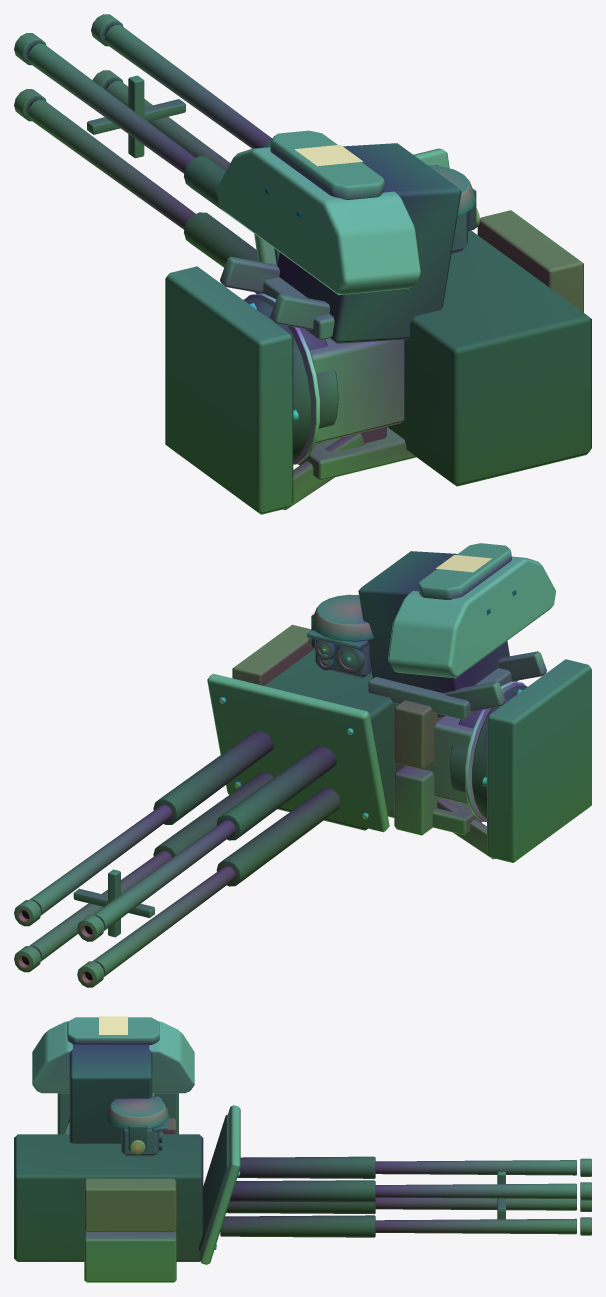
The model's file is arm_m45.glb.
The picture shows the model from 3 angles, top to bottom: view 1: azimuth 30°, elevation 25°; view 2: azimuth 150°, elevation 25°; view 3: azimuth 270°, elevation 25°; orthographic projection. The views are drawn at different scales.
Visible parts, largest first — view 1: Body__dark, Body__gunmetal, Body__armor, Body__armor_sub, Body__armor_oxide, Body__chrome, Body__decal; view 2: Body__gunmetal, Body__armor, Body__dark, Body__armor_sub, Body__armor_oxide, Body__chrome, Body__decal; view 3: Body__dark, Body__gunmetal, Body__armor, Body__armor_sub, Body__armor_oxide, Body__armor_dark, Body__decal.
Part boxes in pixels (bbox=[...]): Body__dark: bbox=[184, 140, 591, 486]; Body__gunmetal: bbox=[14, 14, 475, 514]; Body__armor: bbox=[216, 147, 449, 443]; Body__armor_sub: bbox=[220, 130, 416, 510]; Body__armor_oxide: bbox=[477, 210, 583, 312]; Body__chrome: bbox=[244, 293, 319, 464]; Body__decal: bbox=[294, 144, 362, 166]; Body__gunmetal: bbox=[14, 594, 591, 987]; Body__armor: bbox=[207, 556, 555, 832]; Body__dark: bbox=[153, 551, 527, 886]; Body__armor_sub: bbox=[368, 543, 546, 859]; Body__armor_oxide: bbox=[232, 624, 444, 769]; Body__chrome: bbox=[219, 681, 526, 821]; Body__decal: bbox=[436, 554, 491, 572]; Body__dark: bbox=[14, 1044, 375, 1261]; Body__gunmetal: bbox=[57, 1093, 591, 1235]; Body__armor: bbox=[32, 1021, 240, 1264]; Body__armor_sub: bbox=[67, 1017, 176, 1282]; Body__armor_oxide: bbox=[84, 1118, 176, 1231]; Body__armor_dark: bbox=[121, 1128, 158, 1156]; Body__decal: bbox=[99, 1016, 127, 1034].
Bounding box in the file's own units: 1.04 × 0.9269 × 2.38.
